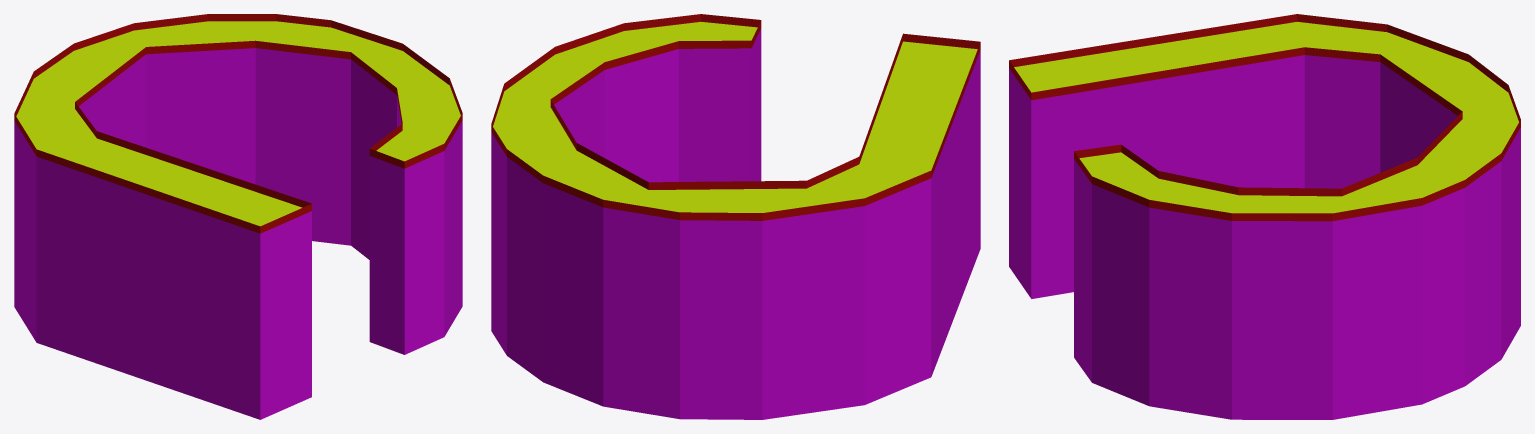
Rendered from bgj_281.glb.
3 renders of one model, left to right at view 1: azimuth 30°, elevation 25°; view 2: azimuth 150°, elevation 25°; view 3: azimuth 270°, elevation 25°, orthographic. The views are drawn at different scales.
Parts seen in each view (by area): view 1: bgj_281; view 2: bgj_281; view 3: bgj_281.
Boxes of the visible parts, bbox=[...] form: bgj_281: bbox=[14, 14, 462, 419]; bgj_281: bbox=[491, 14, 980, 419]; bgj_281: bbox=[1009, 14, 1520, 419].
Bounding box in the file's own units: 19.23 × 9.29 × 20.86.
